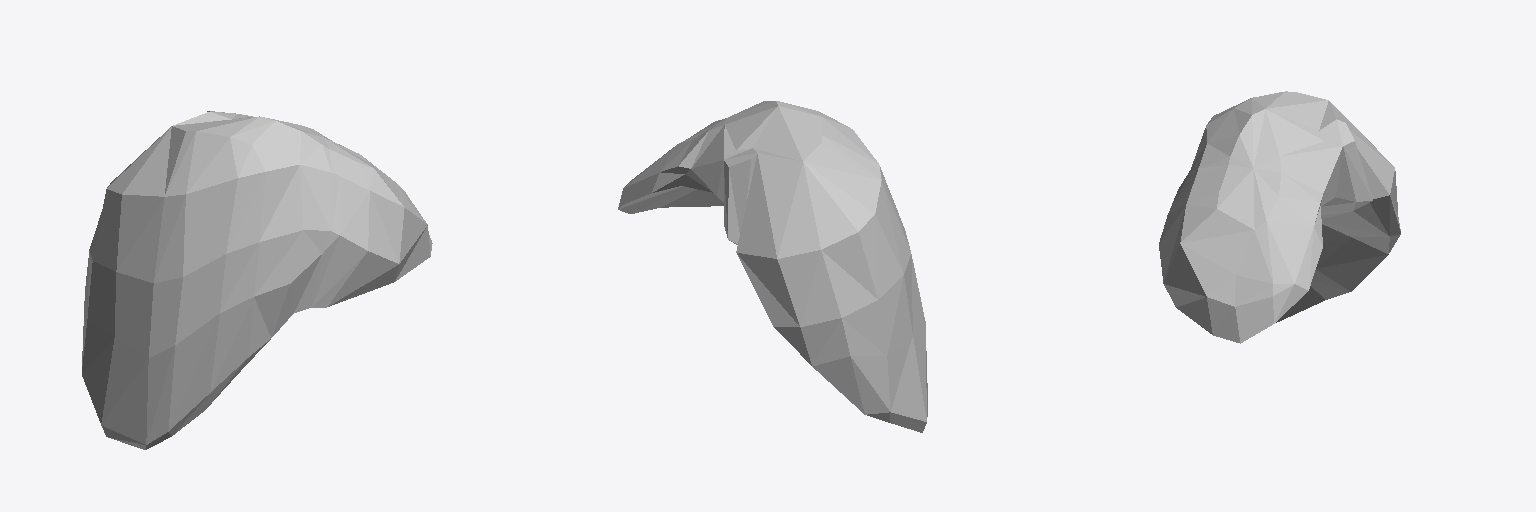
File: foiec2.obj
The picture shows the model from 3 angles: view 1: azimuth 30°, elevation 25°; view 2: azimuth 150°, elevation 25°; view 3: azimuth 270°, elevation 25°; orthographic projection.
Parts seen in each view (by area): view 1: 1_Visual; view 2: 1_Visual; view 3: 1_Visual.
Boxes of the visible parts, x1=… form: 1_Visual: x1=82, y1=111, x2=432, y2=449; 1_Visual: x1=618, y1=101, x2=927, y2=432; 1_Visual: x1=1159, y1=91, x2=1400, y2=343.
Bounding box in the file's own units: 6.68 × 5.92 × 4.47.